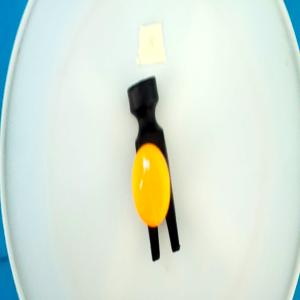martelo: (126, 74, 182, 263)
